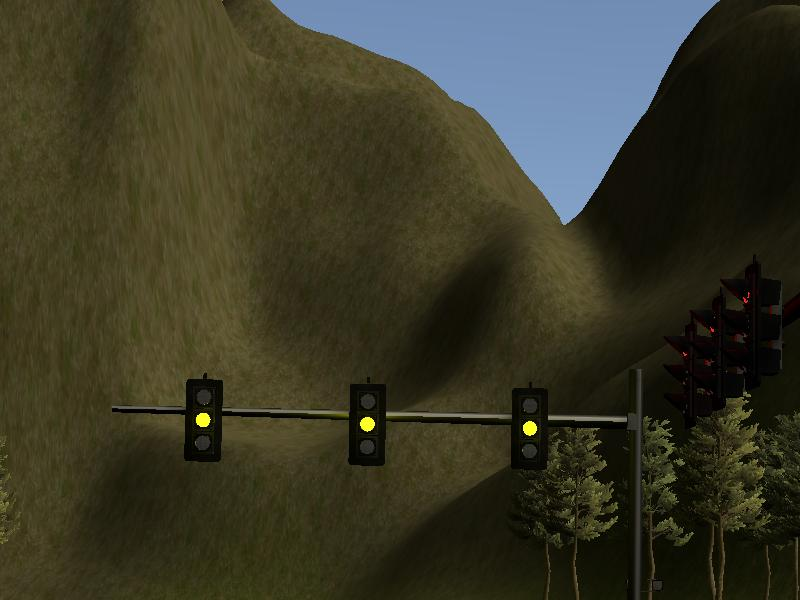yellow: (184, 377, 222, 463), (349, 381, 387, 467), (510, 386, 548, 472)
